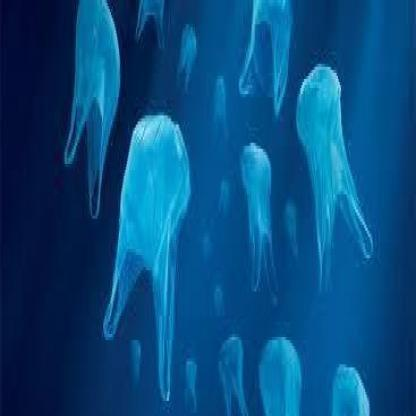pbag: (100, 112, 192, 404), (294, 61, 374, 298), (63, 3, 122, 219), (239, 140, 279, 310)
